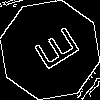E: (25, 25, 81, 78)
